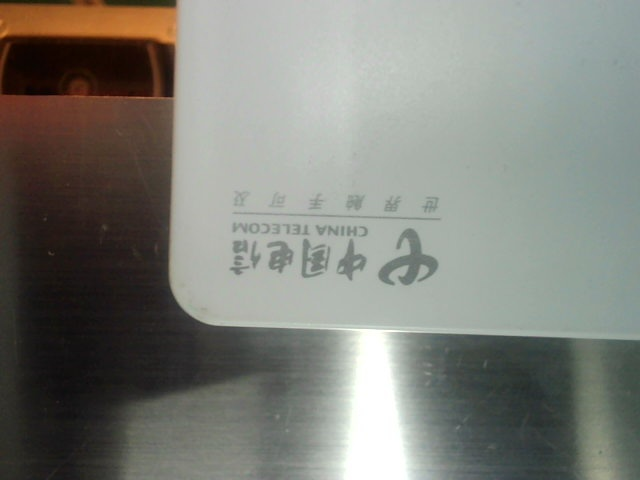AB_ChinaTelecom: (223, 182, 464, 289)
